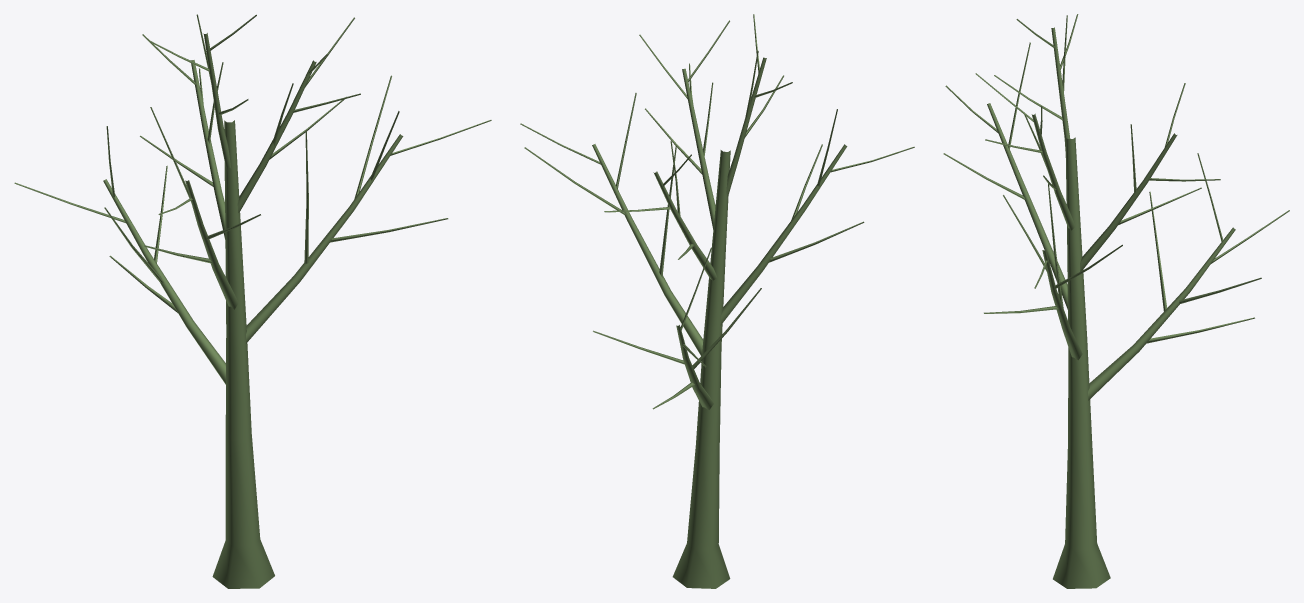
Rendered from tree_s0_lod1.glb.
3 renders of one model, left to right at view 1: azimuth 30°, elevation 25°; view 2: azimuth 150°, elevation 25°; view 3: azimuth 270°, elevation 25°, orthographic. The views are drawn at different scales.
Size of the model in its own units: 7.35 by 10.95 by 6.25.
